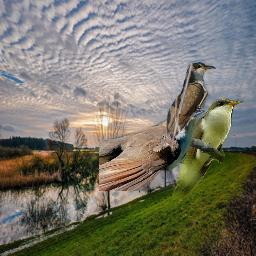Cuckoo: (99, 109, 205, 191), (171, 98, 243, 203), (166, 62, 228, 140)
